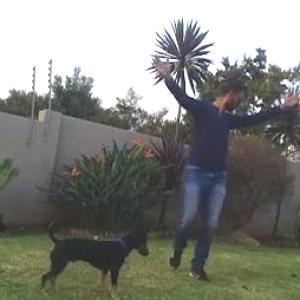takeoff: (138, 50, 299, 272)
